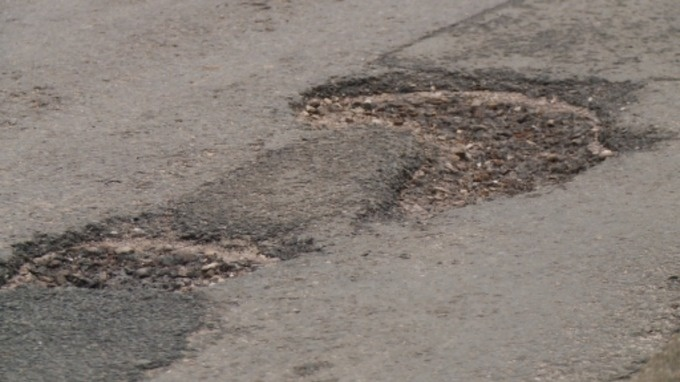pothole: (297, 8, 631, 237), (1, 155, 312, 317)
